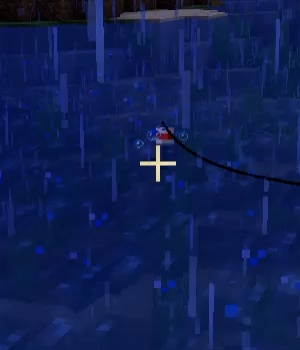up: (156, 123, 176, 149)
